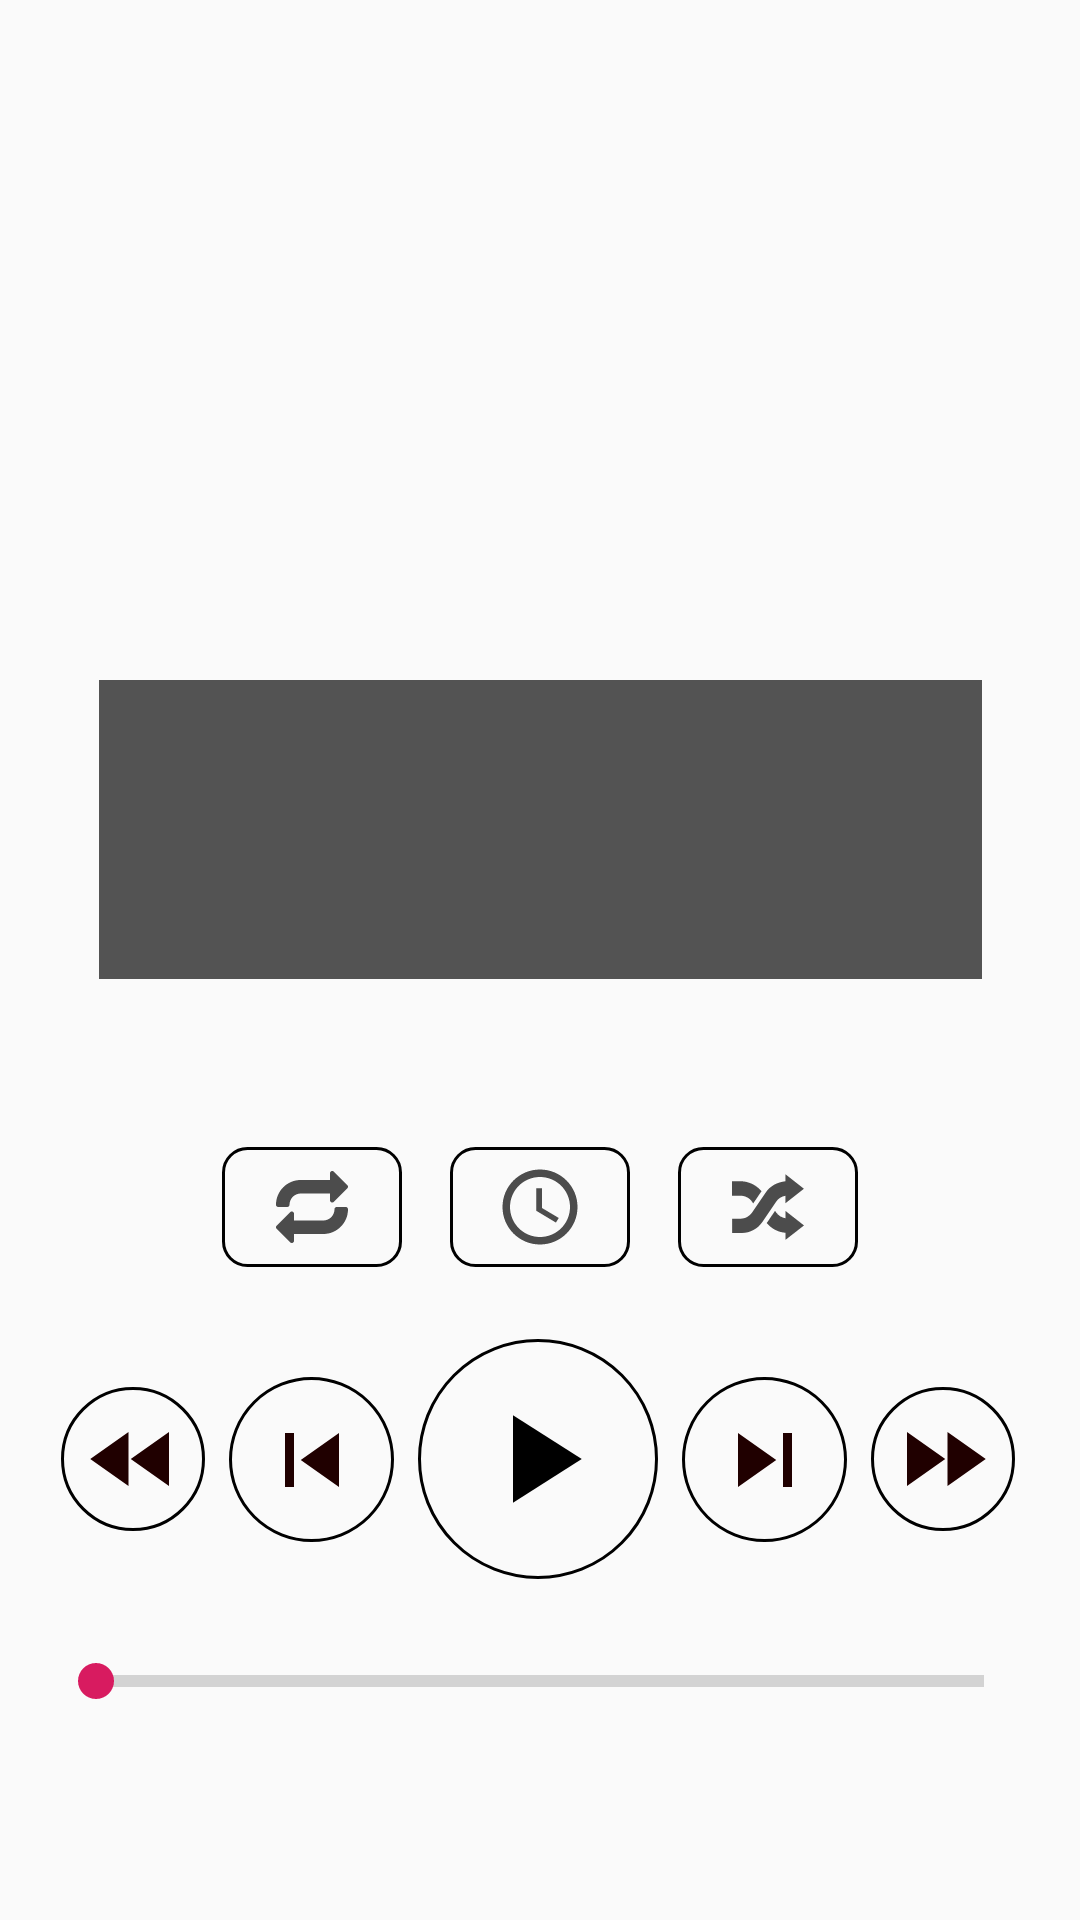

Where icons sit on this 1080x1920 app screen, as (left=x1, top=y1, right=x2, bottom=y2):
access time: (left=450, top=1147, right=630, bottom=1267)
fast forward: (left=871, top=1387, right=1015, bottom=1531)
fast rewind: (left=61, top=1387, right=205, bottom=1531)
play arrow: (left=418, top=1339, right=658, bottom=1579)
repeat: (left=222, top=1147, right=402, bottom=1267)
shuffle: (left=678, top=1147, right=858, bottom=1267)
skip next: (left=682, top=1377, right=847, bottom=1542)
skip previous: (left=229, top=1377, right=394, bottom=1542)
